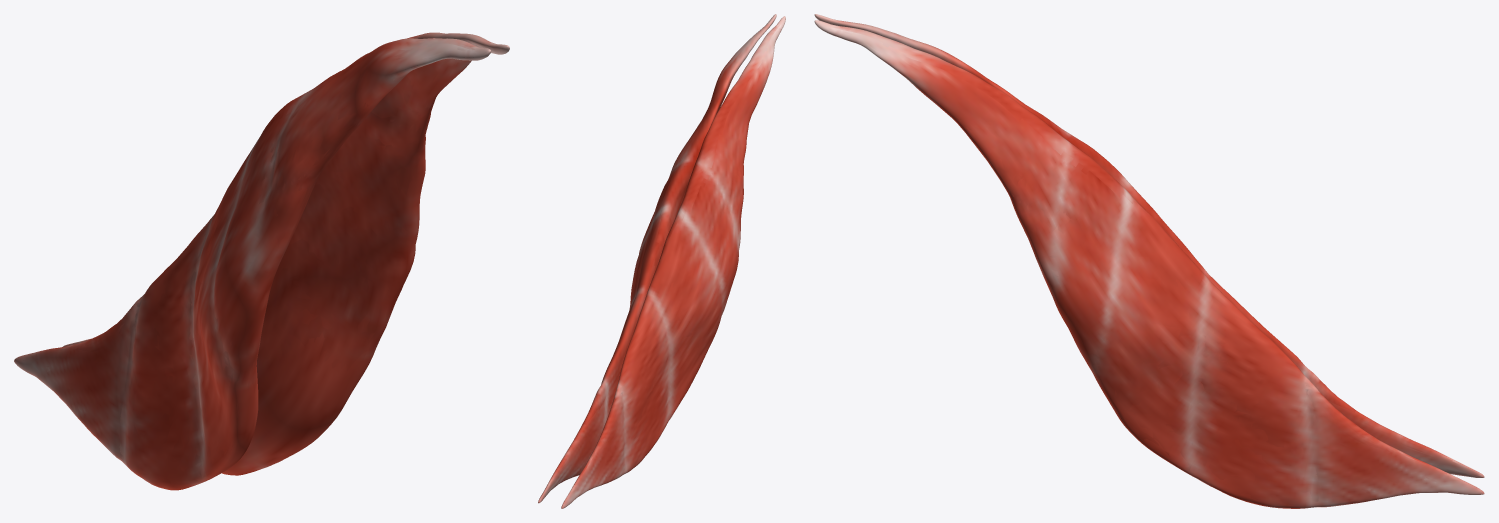
The model's file is Semisspinalis Capitis.fbx.
3 renders of one model, left to right at view 1: azimuth 30°, elevation 25°; view 2: azimuth 150°, elevation 25°; view 3: azimuth 270°, elevation 25°, orthographic. The views are drawn at different scales.
Visible parts, largest first — view 1: Semisspinalis Capitis, Semisspinalis Capitis low; view 2: Semisspinalis Capitis, Semisspinalis Capitis low; view 3: Semisspinalis Capitis, Semisspinalis Capitis low.
Part boxes in pixels (box(x1,y1,x2,y2)): Semisspinalis Capitis: box(14, 32, 509, 490); Semisspinalis Capitis low: box(23, 33, 495, 488); Semisspinalis Capitis: box(538, 14, 785, 508); Semisspinalis Capitis low: box(539, 21, 782, 505); Semisspinalis Capitis: box(814, 14, 1484, 508); Semisspinalis Capitis low: box(828, 19, 1482, 507).
Bounding box in the file's own units: 16.71 × 59.14 × 74.71.
